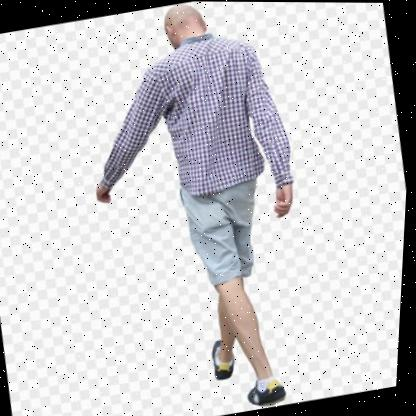person: (52, 1, 347, 416)
